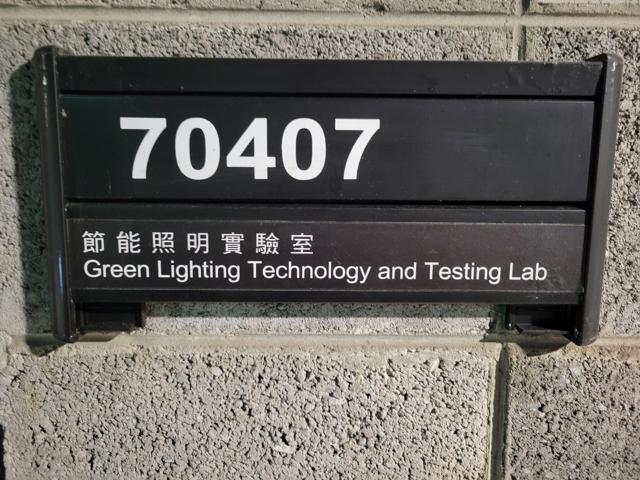doorplate: (29, 40, 627, 350)
